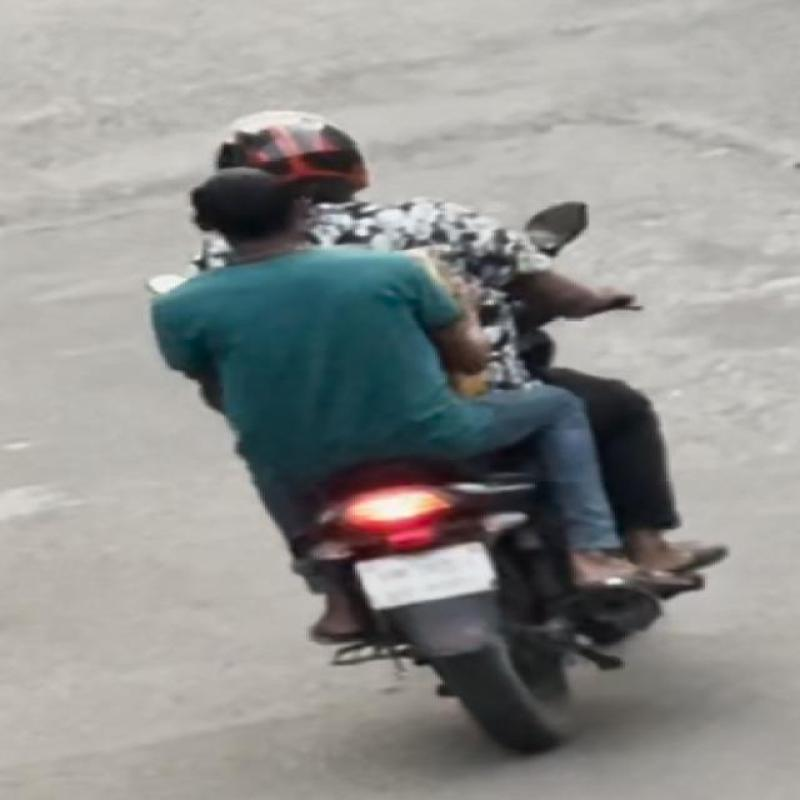nohelmet: (174, 168, 356, 256)
